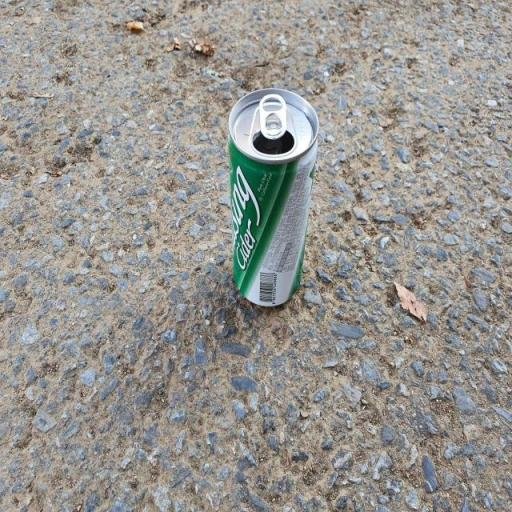metal: (200, 76, 367, 369)
